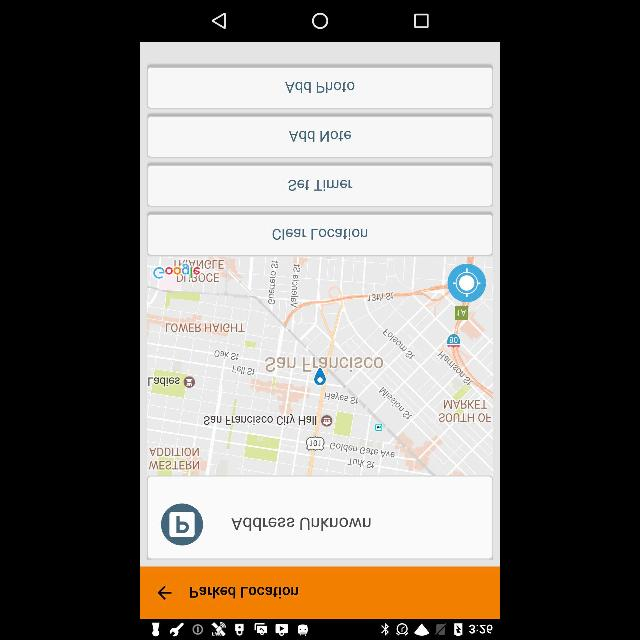icon: (162, 504, 202, 544), (312, 12, 328, 30), (212, 12, 226, 30), (158, 585, 172, 601), (414, 14, 428, 28)
map: (148, 254, 492, 476)
panel: (140, 1, 500, 42)
text: (232, 518, 371, 530), (272, 226, 368, 240), (190, 588, 298, 598), (286, 80, 356, 94), (287, 177, 353, 191), (290, 128, 350, 142)
textbutton: (148, 212, 494, 254), (148, 66, 494, 108), (148, 166, 494, 207), (148, 116, 494, 156)
toolbar: (140, 566, 500, 618)
uppertaskbar: (140, 620, 500, 640)
